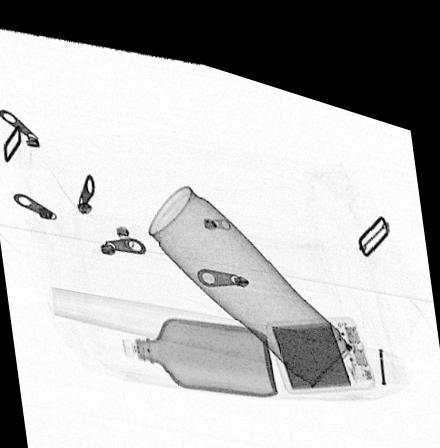Powerbank: (265, 295, 376, 378)
